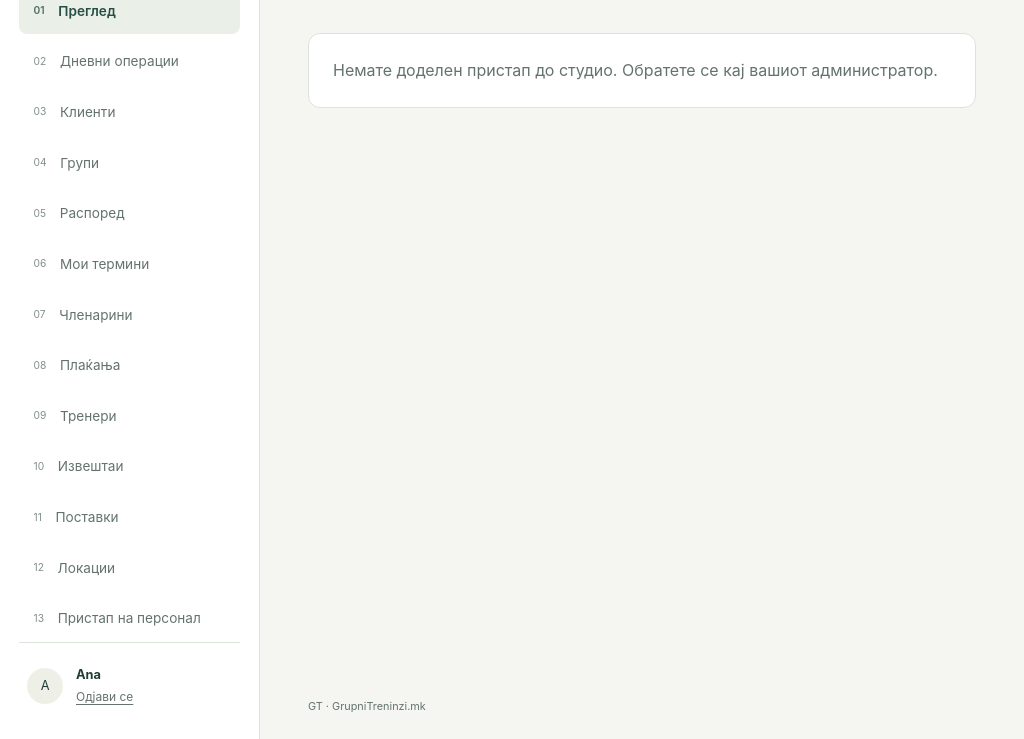
Test: studio foundation › supports accounts without a studio and logs out
(page scrolled)
Check: the text "Немате доделен пристап" is shown, box [333, 60, 938, 80]
Click the button "Одјави се". click: point(105, 697)
box: [76, 688, 133, 706]
(page scrolled)
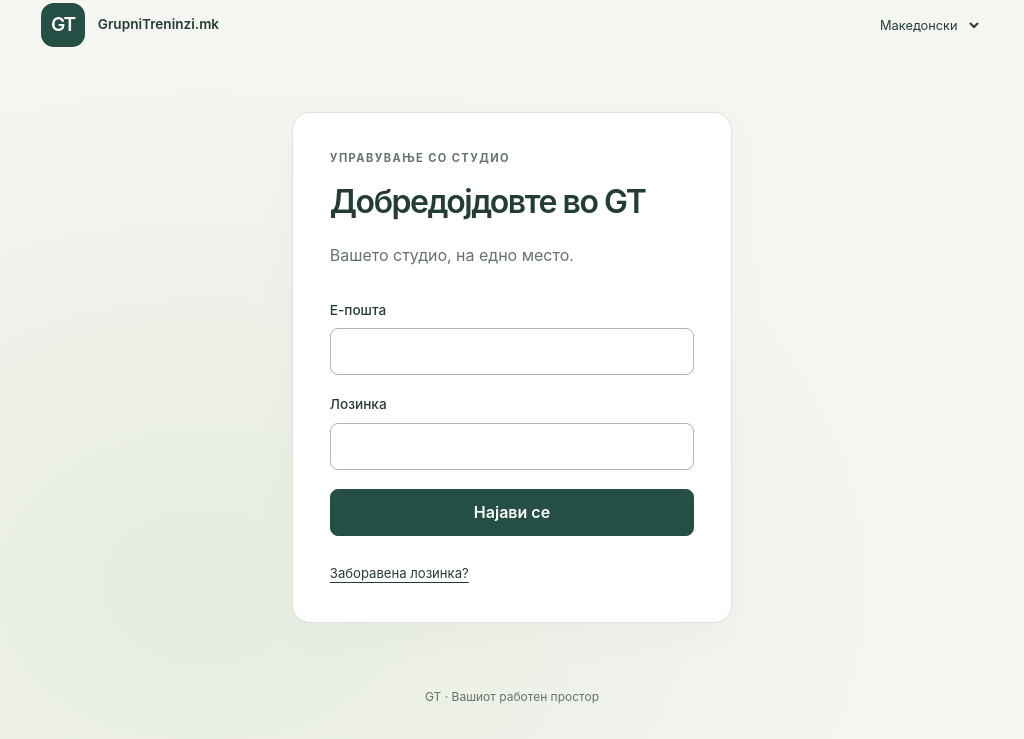
Check: the heading "Добредојдовте во GT" is shown, box [330, 183, 694, 222]
